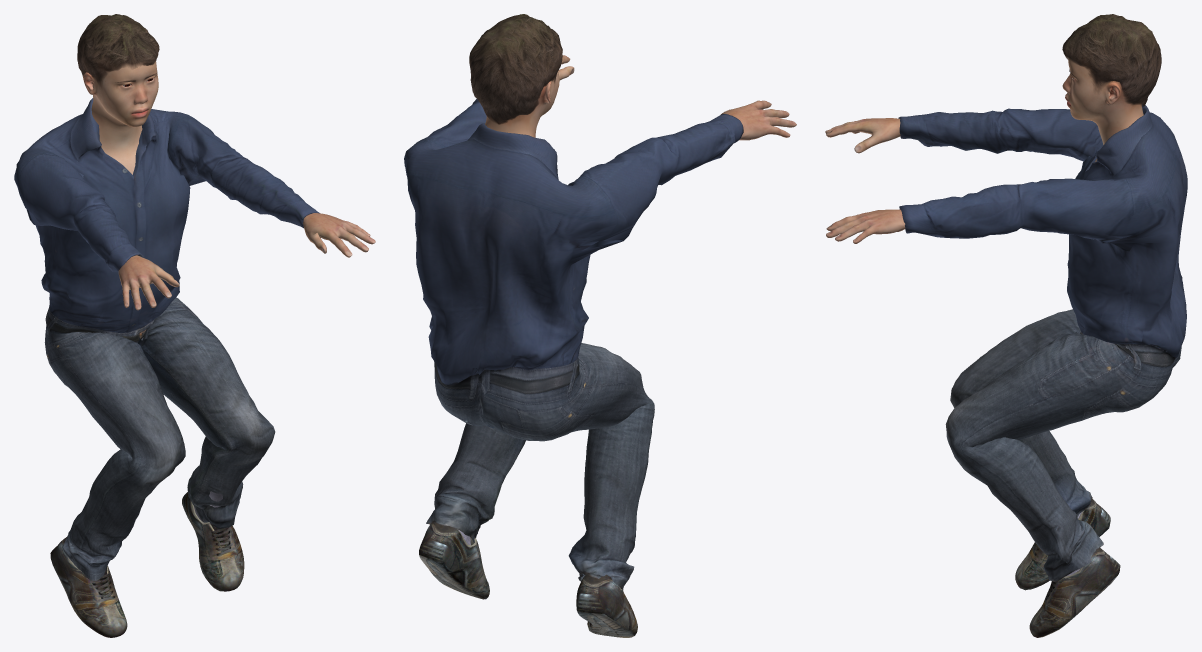
The model's file is fictional_student_mpfb_ik.glb.
3 views of the same model, side by side, from view 1: azimuth 30°, elevation 25°; view 2: azimuth 150°, elevation 25°; view 3: azimuth 270°, elevation 25° (orthographic). The views are drawn at different scales.
Parts seen in each view (by area): view 1: Fictional student - editable base.male_casualsuit01 - pose b, Fictional student - editable base - pose baked, Fictional student - editable base.shoes02 - pose baked, Fictional student - editable base.short02 - pose baked; view 2: Fictional student - editable base.male_casualsuit01 - pose b, Fictional student - editable base.short02 - pose baked, Fictional student - editable base.shoes02 - pose baked, Fictional student - editable base - pose baked; view 3: Fictional student - editable base.male_casualsuit01 - pose b, Fictional student - editable base - pose baked, Fictional student - editable base.short02 - pose baked, Fictional student - editable base.shoes02 - pose baked.
Boxes of the visible parts, left/top/right/bottom form: Fictional student - editable base.male_casualsuit01 - pose b: left=14, top=98, right=319, bottom=581; Fictional student - editable base - pose baked: left=83, top=61, right=375, bottom=310; Fictional student - editable base.shoes02 - pose baked: left=50, top=491, right=244, bottom=637; Fictional student - editable base.short02 - pose baked: left=77, top=14, right=159, bottom=87; Fictional student - editable base.male_casualsuit01 - pose b: left=404, top=99, right=743, bottom=590; Fictional student - editable base.short02 - pose baked: left=469, top=14, right=562, bottom=124; Fictional student - editable base.shoes02 - pose baked: left=419, top=521, right=637, bottom=637; Fictional student - editable base - pose baked: left=485, top=55, right=796, bottom=140; Fictional student - editable base.male_casualsuit01 - pose b: left=898, top=104, right=1187, bottom=581; Fictional student - editable base - pose baked: left=825, top=58, right=1143, bottom=243; Fictional student - editable base.short02 - pose baked: left=1062, top=14, right=1161, bottom=106; Fictional student - editable base.shoes02 - pose baked: left=1015, top=498, right=1120, bottom=637.
Bounding box in the file's own units: 0.6232 × 1.39 × 0.7744.
6 materials, 6 textured.
